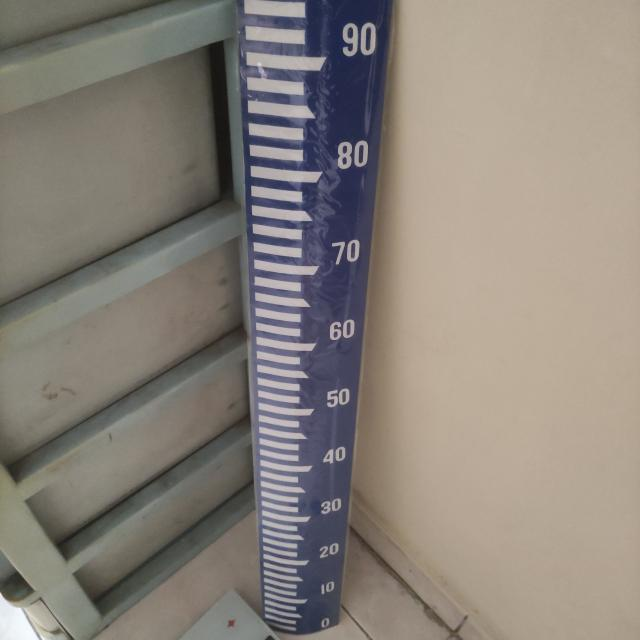10: (316, 576, 336, 596)
20: (317, 540, 341, 562)
30: (318, 496, 344, 520)
40: (321, 444, 349, 468)
50: (325, 386, 350, 409)
60: (325, 317, 356, 344)
70: (328, 237, 361, 269)
80: (336, 140, 371, 171)
90: (340, 20, 378, 57)
staff: (238, 0, 394, 634)
